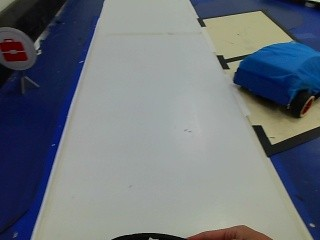car: (225, 37, 318, 121)
company: (0, 30, 37, 73)
